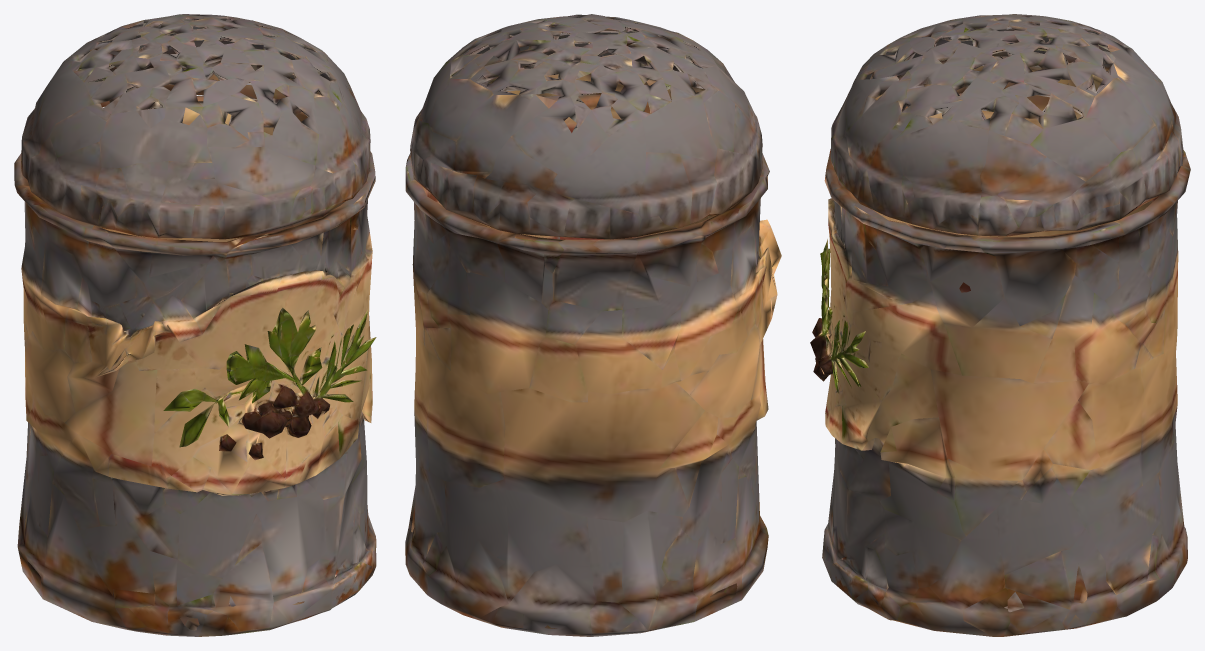
The model's file is d_spice.glb.
The picture shows the model from 3 angles, left to right: view 1: azimuth 30°, elevation 25°; view 2: azimuth 150°, elevation 25°; view 3: azimuth 270°, elevation 25°; orthographic projection.
Bounding box in the file's own units: 1.21 × 1.9 × 1.25.
1 material, 1 textured.
